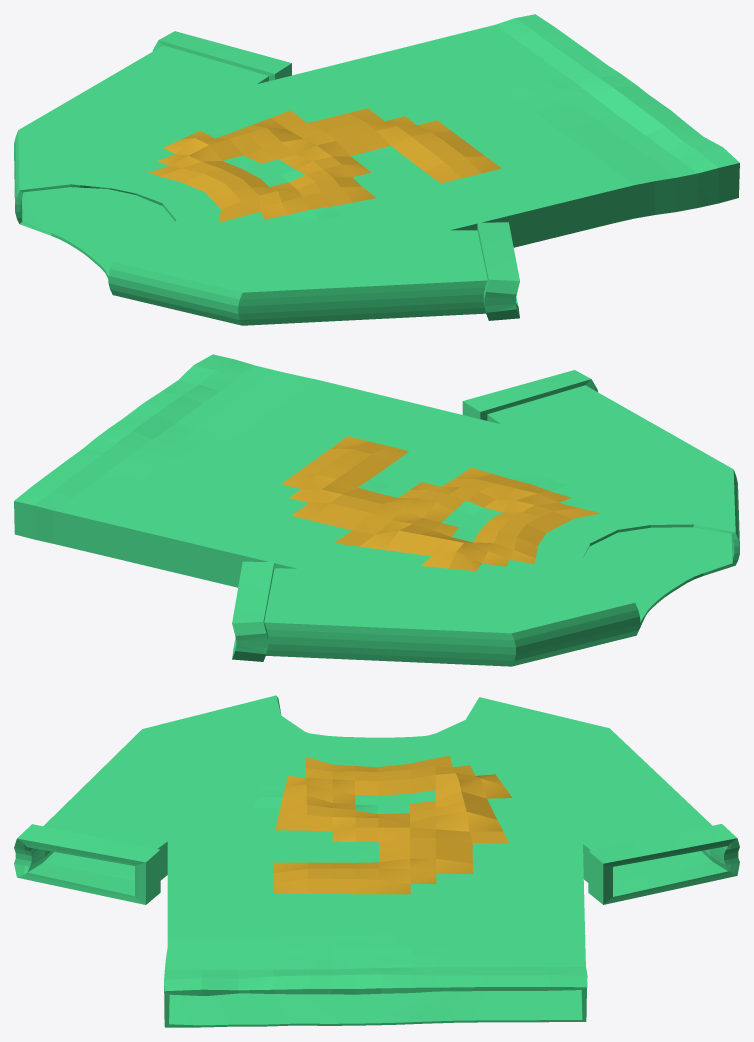
The model's file is Shirt 3.fbx.
3 views of the same model, one above another, from view 1: azimuth 30°, elevation 25°; view 2: azimuth 150°, elevation 25°; view 3: azimuth 270°, elevation 25° (orthographic). The views are drawn at different scales.
Parts seen in each view (by area): view 1: Node 0; view 2: Node 0; view 3: Node 0.
Part boxes in pixels (x1,y1,x2,y2): Node 0: (14,14,739,325); Node 0: (14,354,739,666); Node 0: (14,695,739,1027).
Bounding box in the file's own units: 1.07 × 0.0807 × 1.1.
